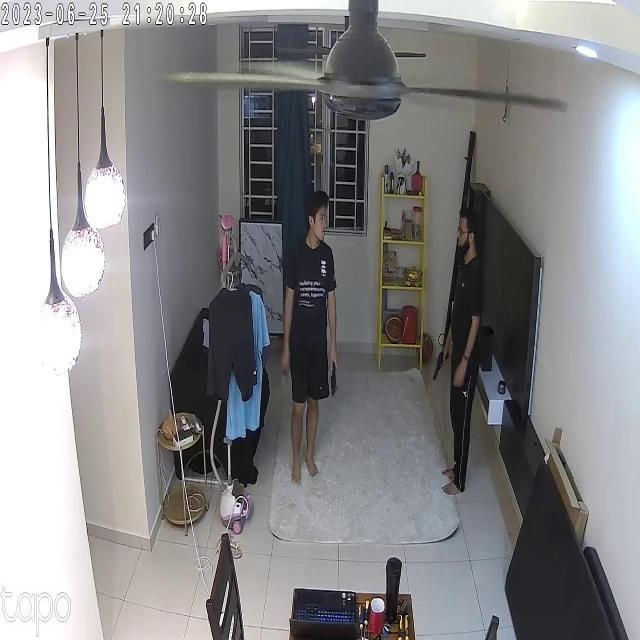Gun: (428, 341, 454, 387)
Knife: (324, 349, 344, 400)
